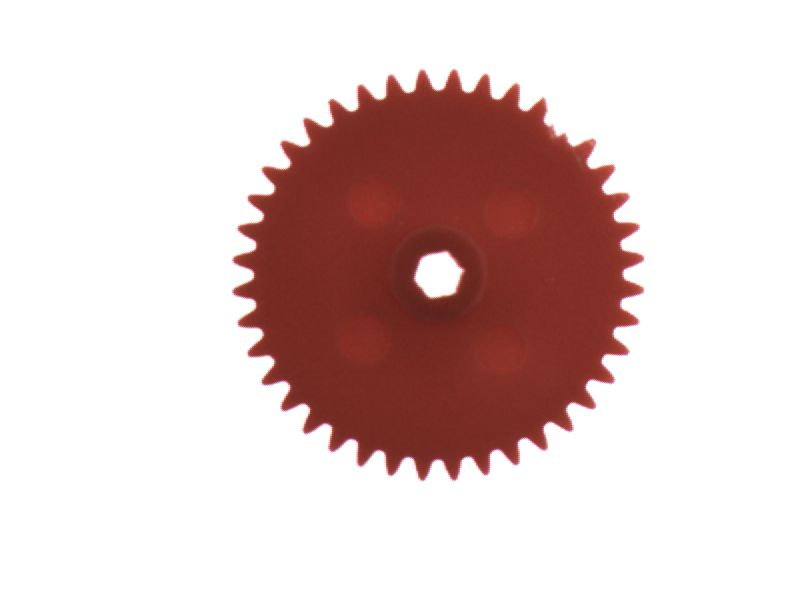defect_lack: (534, 96, 601, 150)
